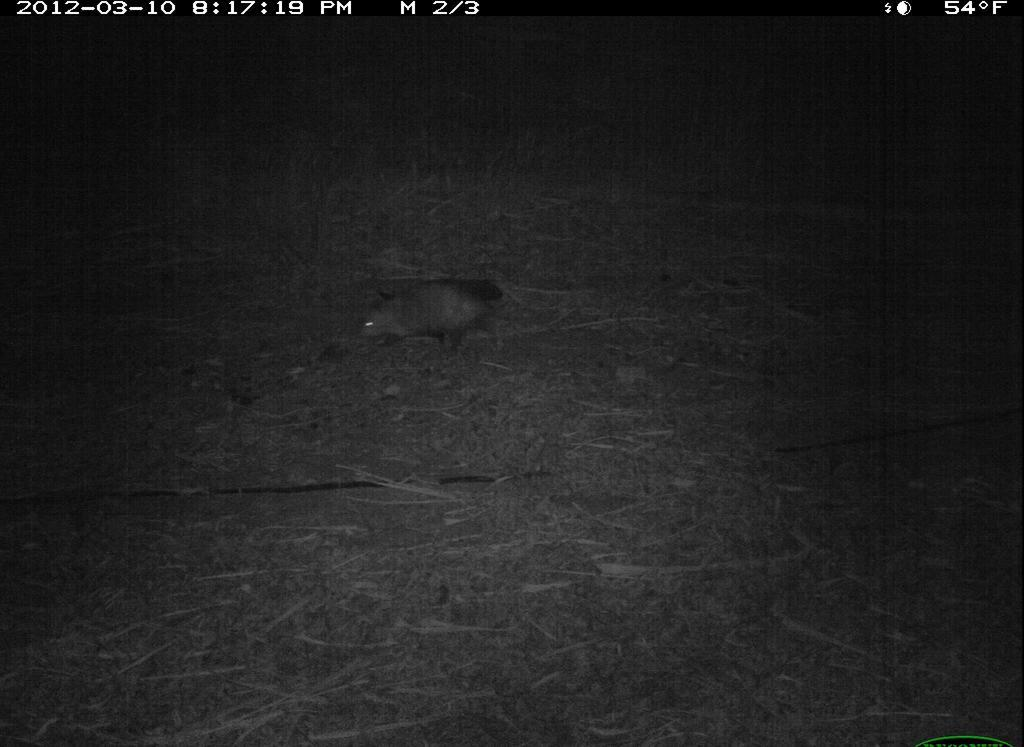opossum: (350, 264, 539, 363)
